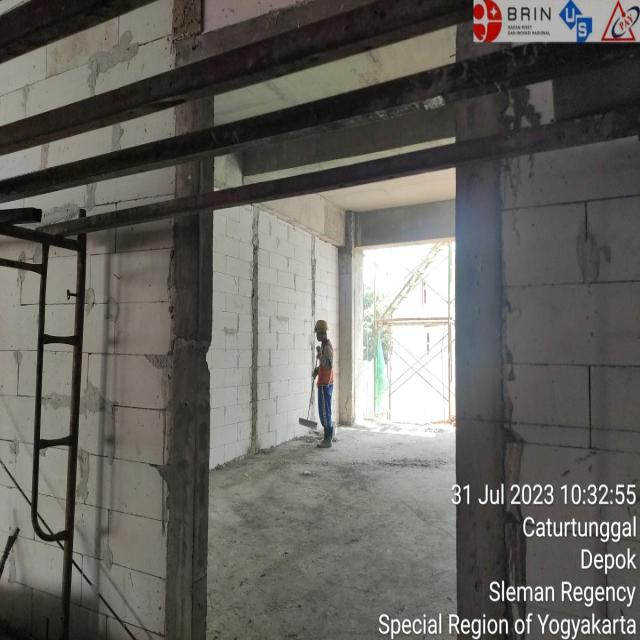Helmet: (308, 312, 332, 339)
Safety Vest: (314, 338, 342, 394)
